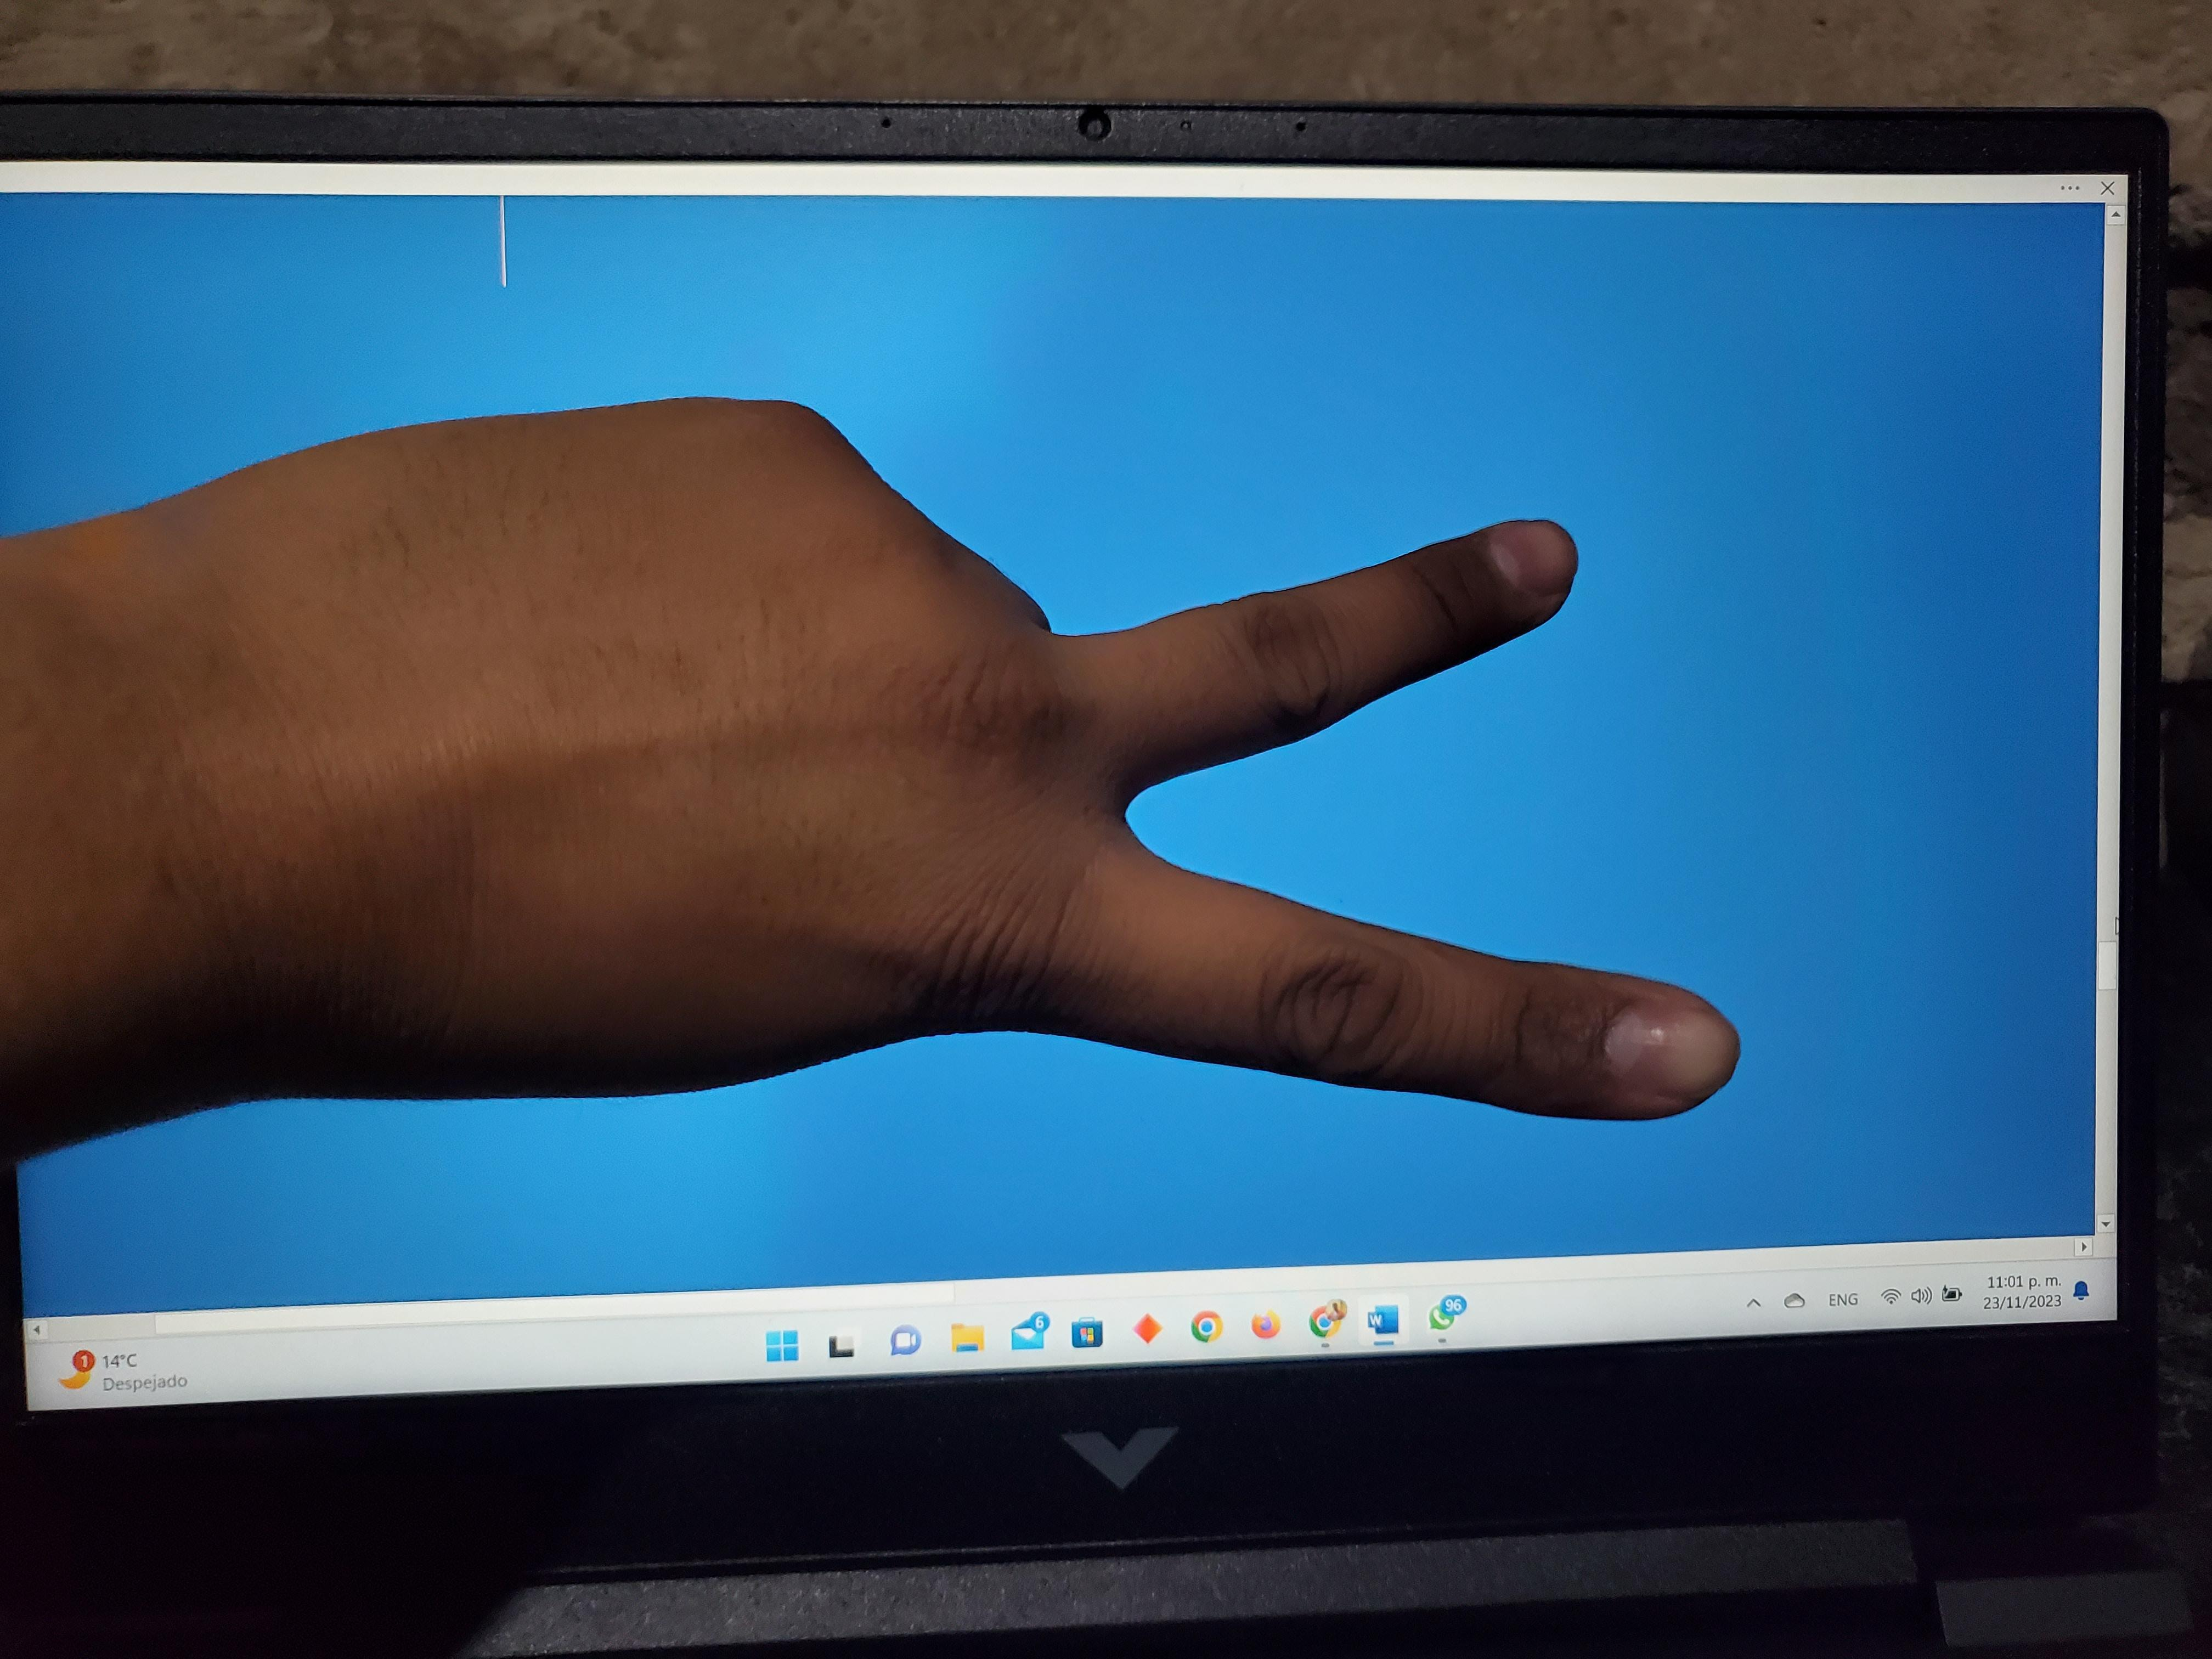Scissor: (12, 182, 1835, 1303)
